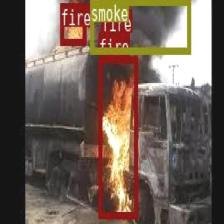fire: (98, 55, 137, 218), (60, 2, 86, 43), (100, 33, 111, 45)
smoke: (90, 0, 190, 53)
